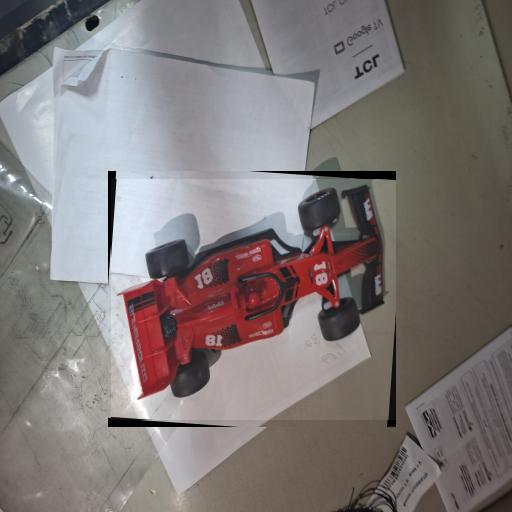carro: (111, 179, 395, 420)
